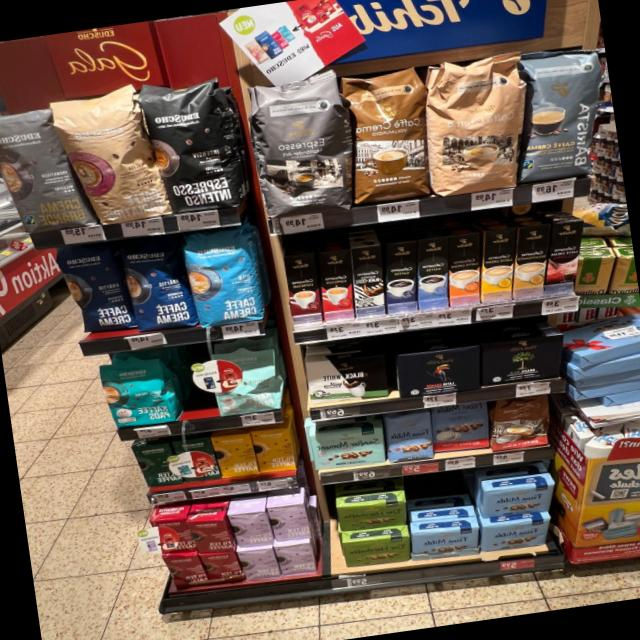BM Gemahlen: (477, 329, 572, 389)
BW Gemahlen: (302, 350, 391, 407)
Barista CC: (518, 42, 600, 186)
CC Mild: (424, 51, 521, 199)
CC Vollmundig: (486, 395, 557, 455)
CC Vollmundig 36 Pads: (337, 65, 438, 208)
Espresso M Art: (247, 68, 359, 220)
FM 36 Pads: (430, 400, 495, 456)
FM Bohne: (382, 410, 438, 465)
FM Gemahlen: (482, 484, 553, 519), (483, 517, 550, 553), (412, 525, 478, 561)
Herzhatfe Mundig: (342, 534, 411, 568), (336, 499, 406, 532)
LG Gemahlen: (392, 344, 484, 402)
SM Gemahlen: (308, 424, 388, 473)
Simo CC Colombia: (543, 220, 584, 296)
Simo CCMild bigpack: (482, 228, 514, 303)
Simo CCVollmundig bigpack: (448, 231, 480, 308)
Simo Decaff: (514, 224, 550, 299)
Simo Es Brazil: (317, 248, 355, 321)
Simo Es Caramel: (285, 253, 323, 326)
Simo Es Elegant: (351, 245, 386, 318)
Simo Es Kraft: (387, 241, 416, 314)
Simo Es Vanilla: (417, 236, 449, 311)
